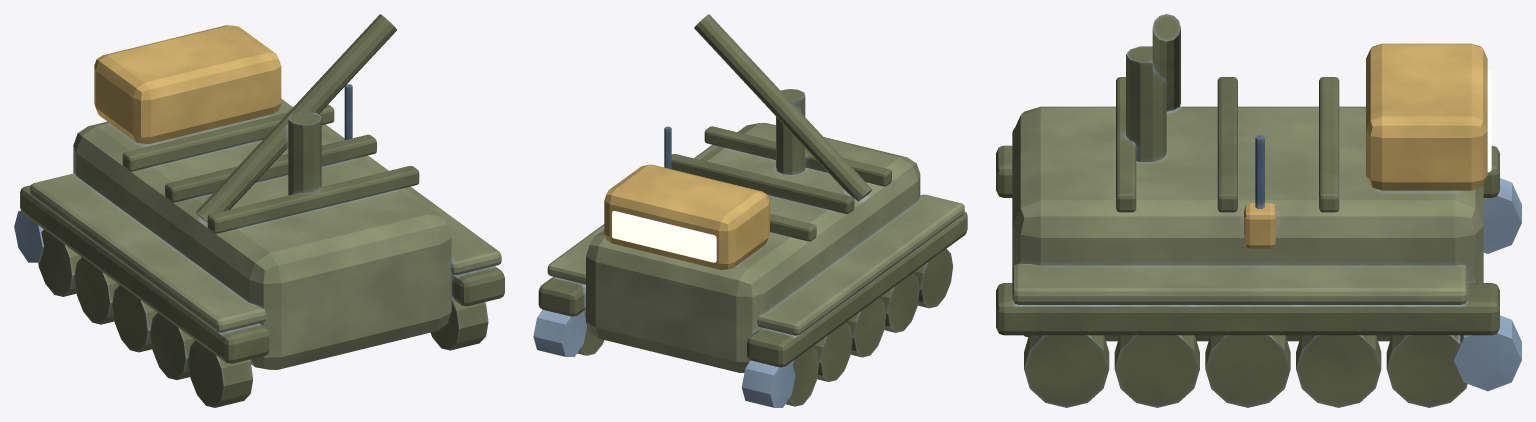
Rendered from com_mcv.glb.
3 renders of one model, left to right at view 1: azimuth 30°, elevation 25°; view 2: azimuth 150°, elevation 25°; view 3: azimuth 270°, elevation 25°, orthographic. The views are drawn at different scales.
Parts seen in each view (by area): view 1: com_mcv; view 2: com_mcv; view 3: com_mcv.
Boxes of the visible parts, x1,y1,x2,y2 form: com_mcv: [14, 14, 504, 407]; com_mcv: [533, 14, 967, 407]; com_mcv: [996, 14, 1521, 407].
Bounding box in the file's own units: 0.97 × 0.9961 × 1.29.
1 material, 1 textured.
